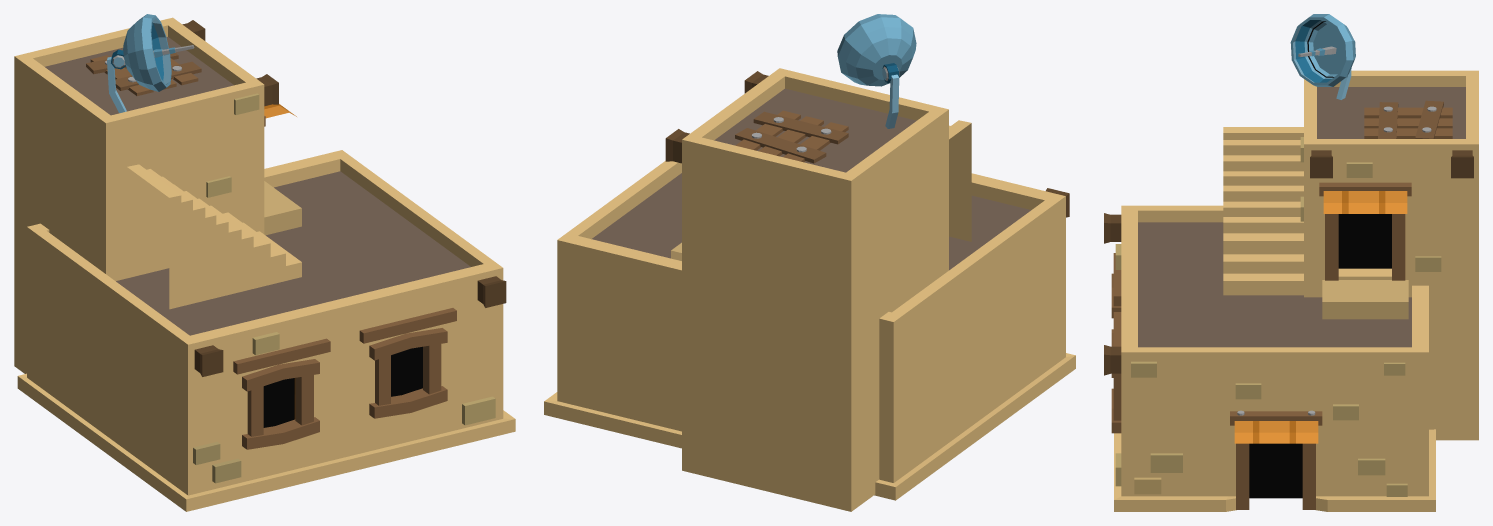
File: DesertHouse_4.fbx
3 views of the same model, side by side, from view 1: azimuth 30°, elevation 25°; view 2: azimuth 150°, elevation 25°; view 3: azimuth 270°, elevation 25° (orthographic). The views are drawn at different scales.
Parts seen in each view (by area): view 1: Cube.094, Cube.124, Cube.125, Cube.149, Cube.148, Cube.123, Cube.122, Cube.139, Cube.113, Cube.119, Cube.112, Cube.118 (+8 smaller); view 2: Cube.124, Cube.094, Cube.149, Cube.148, Cube.125; view 3: Cube.094, Cube.124, Cube.125, Cube.149, Cube.139, Cube.148, Plane.006, Plane.009, Cube.126, Cube.127, Cube.109, Cube.110 (+14 smaller).
Part boxes in pixels (<box>): Cube.094: <box>17,150,515,511</box>; Cube.124: <box>14,17,264,373</box>; Cube.125: <box>127,164,301,309</box>; Cube.149: <box>107,14,194,112</box>; Cube.148: <box>86,48,201,95</box>; Cube.123: <box>233,338,330,374</box>; Cube.122: <box>359,308,456,343</box>; Cube.139: <box>264,181,301,235</box>; Cube.113: <box>369,386,447,418</box>; Cube.119: <box>242,417,319,449</box>; Cube.112: <box>369,328,447,360</box>; Cube.118: <box>242,359,319,391</box>; Cube.124: <box>682,68,948,511</box>; Cube.094: <box>544,161,1075,500</box>; Cube.149: <box>837,14,916,128</box>; Cube.148: <box>735,110,848,163</box>; Cube.125: <box>949,120,971,241</box>; Cube.094: <box>1114,205,1435,511</box>; Cube.124: <box>1304,70,1478,440</box>; Cube.125: <box>1223,127,1303,295</box>; Cube.149: <box>1290,14,1355,99</box>; Cube.139: <box>1322,280,1408,319</box>; Cube.148: <box>1364,100,1452,138</box>; Plane.006: <box>1234,421,1318,443</box>; Plane.009: <box>1323,191,1407,213</box>; Cube.126: <box>1392,214,1405,280</box>; Cube.127: <box>1325,214,1338,280</box>; Cube.109: <box>1302,443,1315,509</box>; Cube.110: <box>1236,443,1249,509</box>.
Bounding box in the file's own units: 377 × 389 × 351.
